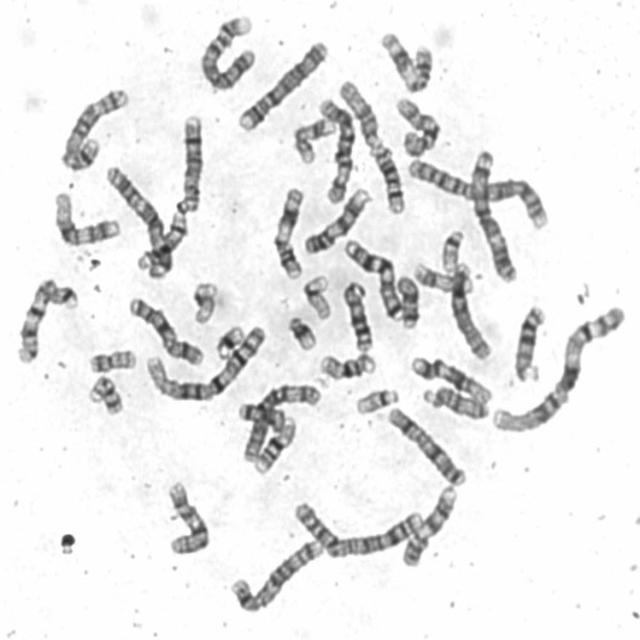A1: (486, 298, 629, 436), (141, 320, 268, 404)
A2: (404, 154, 550, 232), (287, 494, 426, 561)
A3: (102, 160, 174, 280), (466, 144, 520, 284)
B4: (234, 35, 330, 134), (196, 8, 259, 92)
B5: (226, 533, 326, 615), (56, 81, 132, 173)
C10: (162, 477, 212, 557), (391, 92, 443, 158)
C11: (376, 26, 435, 94), (269, 182, 307, 282)
C12: (406, 350, 494, 406), (49, 186, 123, 248)
C6: (238, 378, 323, 465), (314, 92, 357, 206)
C7: (12, 275, 80, 365), (339, 233, 406, 322)
C8: (445, 258, 494, 362), (176, 109, 205, 214)
C9: (397, 480, 460, 569), (300, 182, 372, 256)
D13: (510, 300, 548, 384), (338, 276, 375, 354)
D14: (134, 208, 190, 274), (366, 138, 406, 215)
D15: (335, 76, 384, 150), (418, 382, 491, 421)
E16: (250, 413, 299, 476), (314, 348, 378, 382)
E17: (408, 257, 476, 297), (289, 113, 337, 166)
E18: (235, 397, 288, 435), (392, 270, 421, 330)
F19: (298, 270, 333, 322), (188, 276, 220, 326)
F20: (84, 371, 124, 417), (85, 344, 138, 375)
G21: (284, 311, 318, 353), (211, 320, 246, 360)
G22: (352, 384, 401, 416), (438, 224, 467, 274)
X: (383, 402, 469, 489), (125, 292, 205, 369)
